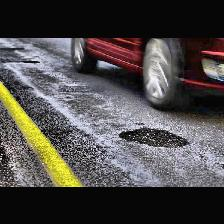pothole: (119, 126, 190, 146), (21, 58, 39, 62), (134, 122, 144, 125)
